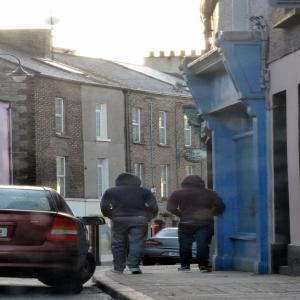Vehicle-registration-plate: (1, 229, 8, 239), (168, 253, 180, 258)
